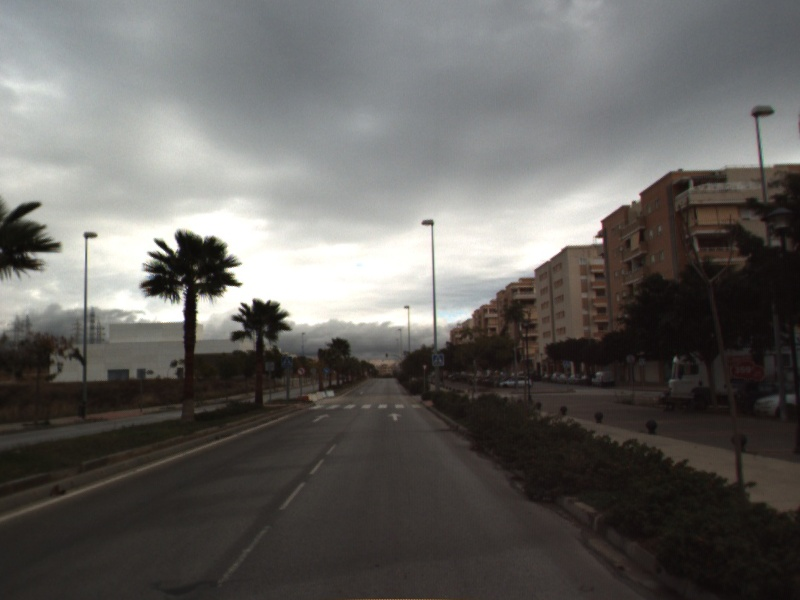STRAIGHT: (310, 411, 331, 424), (385, 410, 404, 422)
